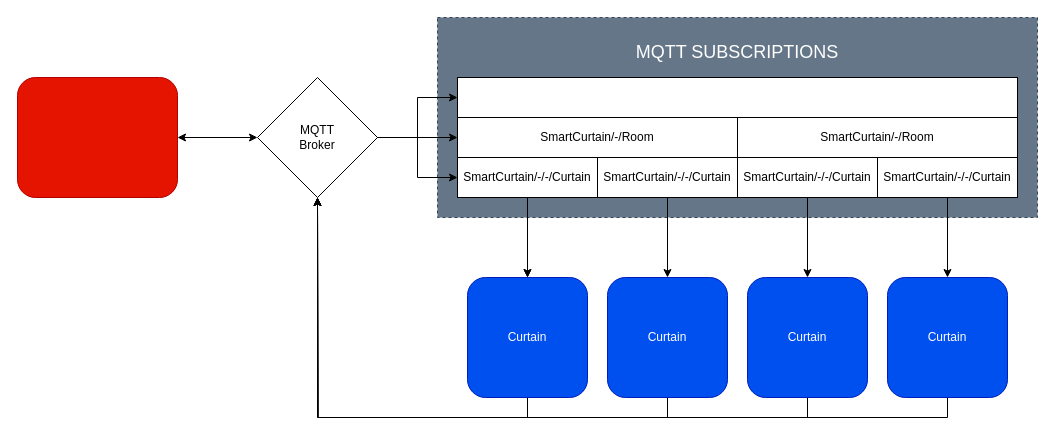
Some shapes in this 1055 by 443 pixel diagram are drawn without their labels. Each missing label, with the centre of its shape:
HUB: the point at 97,137
SmartCurtain/Home: the point at 737,97
